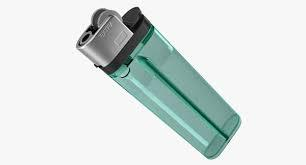lighter: (79, 9, 244, 157)
